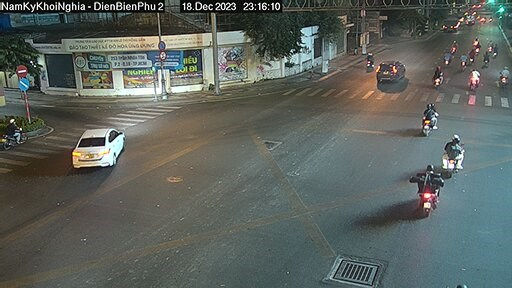car: (71, 119, 139, 172), (373, 56, 410, 85)
motorbike: (408, 161, 449, 218), (431, 132, 467, 168), (416, 99, 447, 138), (3, 118, 31, 157), (424, 60, 451, 94), (464, 63, 483, 91), (495, 63, 512, 87), (359, 50, 375, 67), (459, 52, 471, 71), (490, 42, 504, 57), (450, 41, 462, 53)
